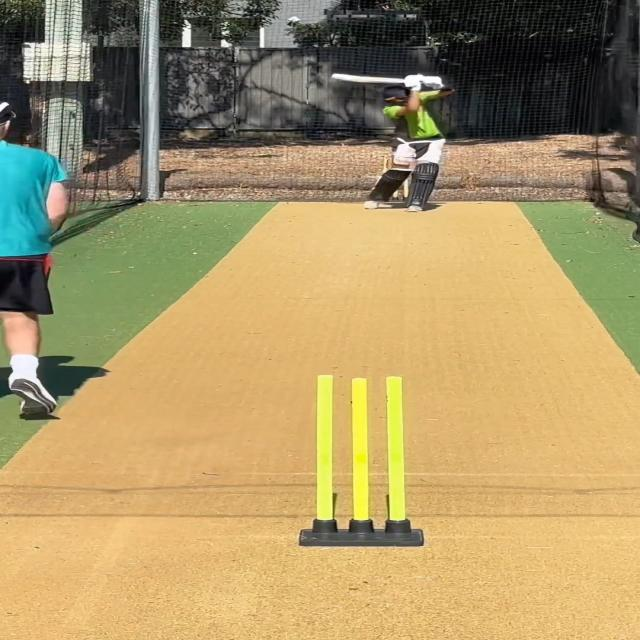stump: (295, 371, 425, 547)
